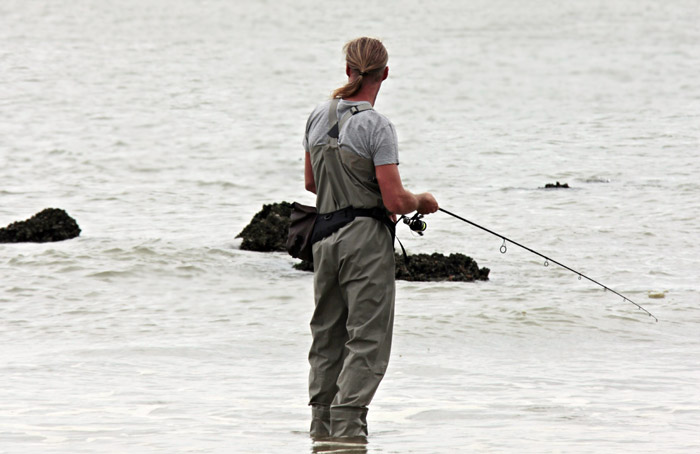male: (301, 35, 439, 448)
